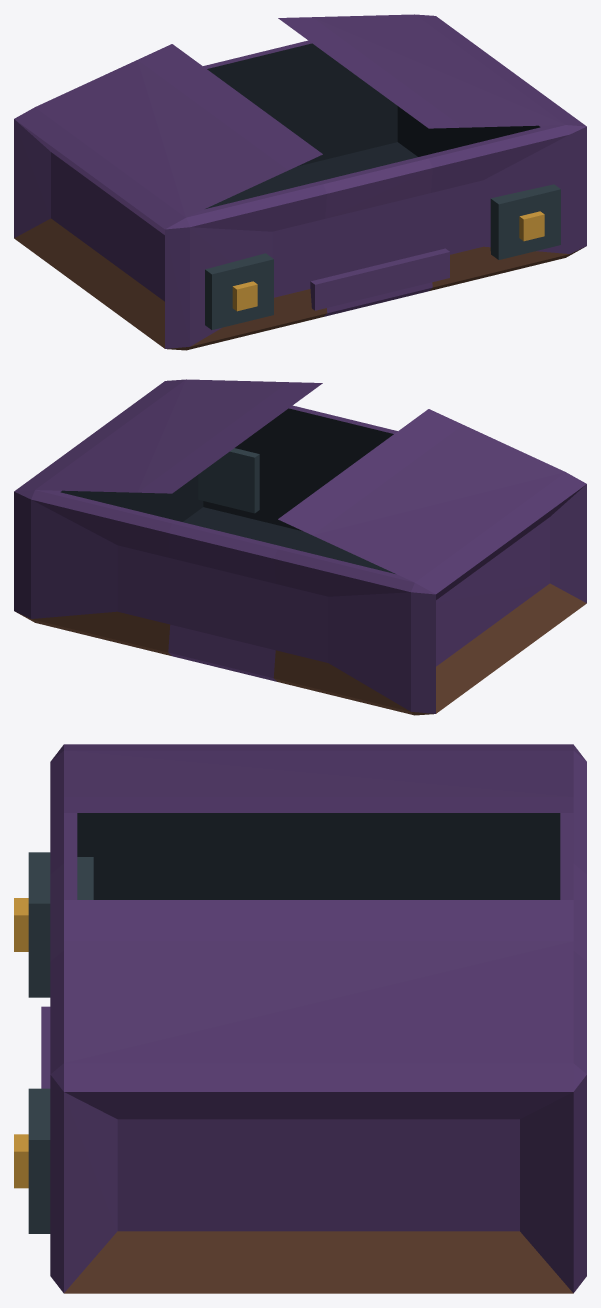
Rendered from fish-crate-lilac.glb.
3 views of the same model, one above another, from view 1: azimuth 30°, elevation 25°; view 2: azimuth 150°, elevation 25°; view 3: azimuth 270°, elevation 25° (orthographic). The views are drawn at different scales.
Parts seen in each view (by area): view 1: fish-crate-lilac; view 2: fish-crate-lilac; view 3: fish-crate-lilac.
Boxes of the visible parts, bbox=[...] form: fish-crate-lilac: bbox=[14, 14, 586, 350]; fish-crate-lilac: bbox=[14, 379, 586, 715]; fish-crate-lilac: bbox=[14, 744, 586, 1293].
Size of the model in its own units: 0.95 by 0.35 by 0.6621.
